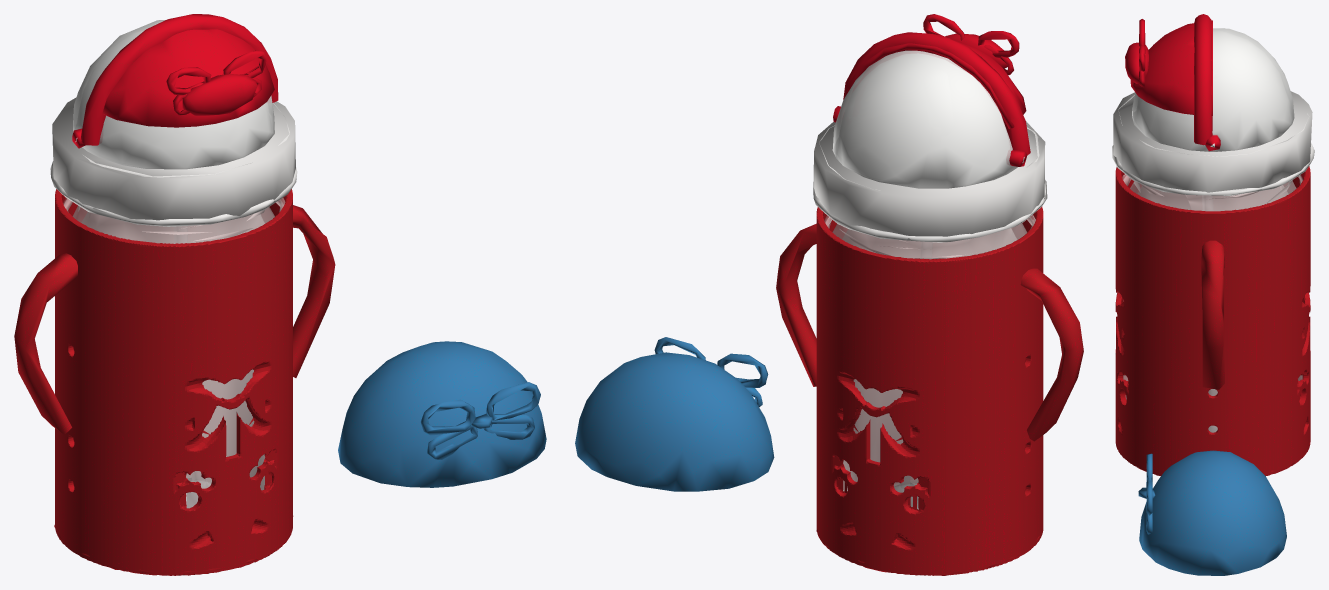
File: product-31-sippy-cup.glb
3 views of the same model, side by side, from view 1: azimuth 30°, elevation 25°; view 2: azimuth 150°, elevation 25°; view 3: azimuth 270°, elevation 25° (orthographic). The views are drawn at different scales.
Parts seen in each view (by area): view 1: coral red patterned protective sleeve, blue accessory scalloped front edge, coral central mouth cover boss, unbranded drinking spout, translucent milky protective dome, clear neck thread 01; view 2: coral red patterned protective sleeve, blue accessory scalloped front edge, translucent milky protective dome, unbranded drinking spout, coral central mouth cover boss, clear neck thread 01; view 3: coral red patterned protective sleeve, blue accessory scalloped front edge, unbranded drinking spout, translucent milky protective dome, coral central mouth cover boss, clear neck thread 01.
Boxes of the visible parts, x1=… form: coral red patterned protective sleeve: x1=14, y1=189, x2=335, y2=575; blue accessory scalloped front edge: x1=338, y1=341, x2=546, y2=487; coral central mouth cover boss: x1=72, y1=14, x2=278, y2=148; unbranded drinking spout: x1=50, y1=97, x2=297, y2=226; translucent milky protective dome: x1=73, y1=20, x2=274, y2=169; clear neck thread 01: x1=63, y1=198, x2=285, y2=508; coral red patterned protective sleeve: x1=776, y1=206, x2=1083, y2=575; blue accessory scalloped front edge: x1=575, y1=337, x2=774, y2=491; translucent milky protective dome: x1=832, y1=50, x2=1017, y2=188; unbranded drinking spout: x1=813, y1=121, x2=1047, y2=242; coral central mouth cover boss: x1=833, y1=14, x2=1030, y2=166; clear neck thread 01: x1=824, y1=214, x2=1035, y2=509; coral red patterned protective sleeve: x1=1115, y1=166, x2=1310, y2=476; blue accessory scalloped front edge: x1=1138, y1=450, x2=1286, y2=575; unbranded drinking spout: x1=1112, y1=91, x2=1314, y2=195; translucent milky protective dome: x1=1132, y1=28, x2=1294, y2=151; coral central mouth cover boss: x1=1125, y1=14, x2=1220, y2=150; clear neck thread 01: x1=1122, y1=174, x2=1302, y2=432.
Size of the model in its own units: 0.1769 by 0.1674 by 0.0728.
7 materials, 7 textured.
